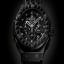watch: (11, 3, 57, 55)
